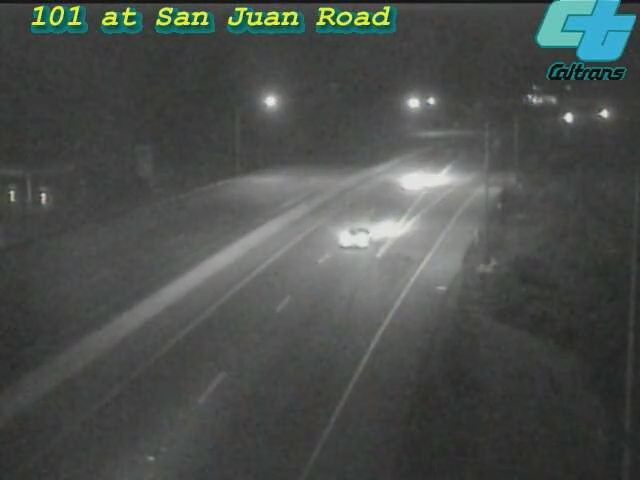vehicle: (378, 139, 458, 219), (316, 195, 396, 275), (542, 92, 592, 142), (577, 90, 627, 140)
